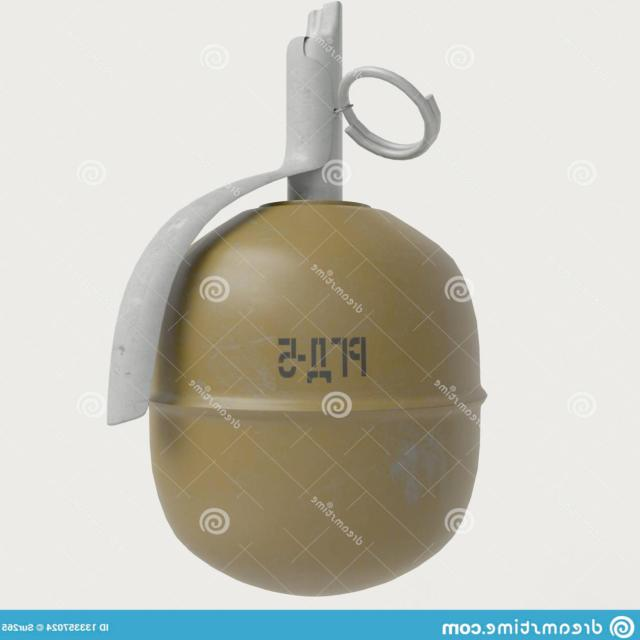grenade: (108, 4, 488, 598)
